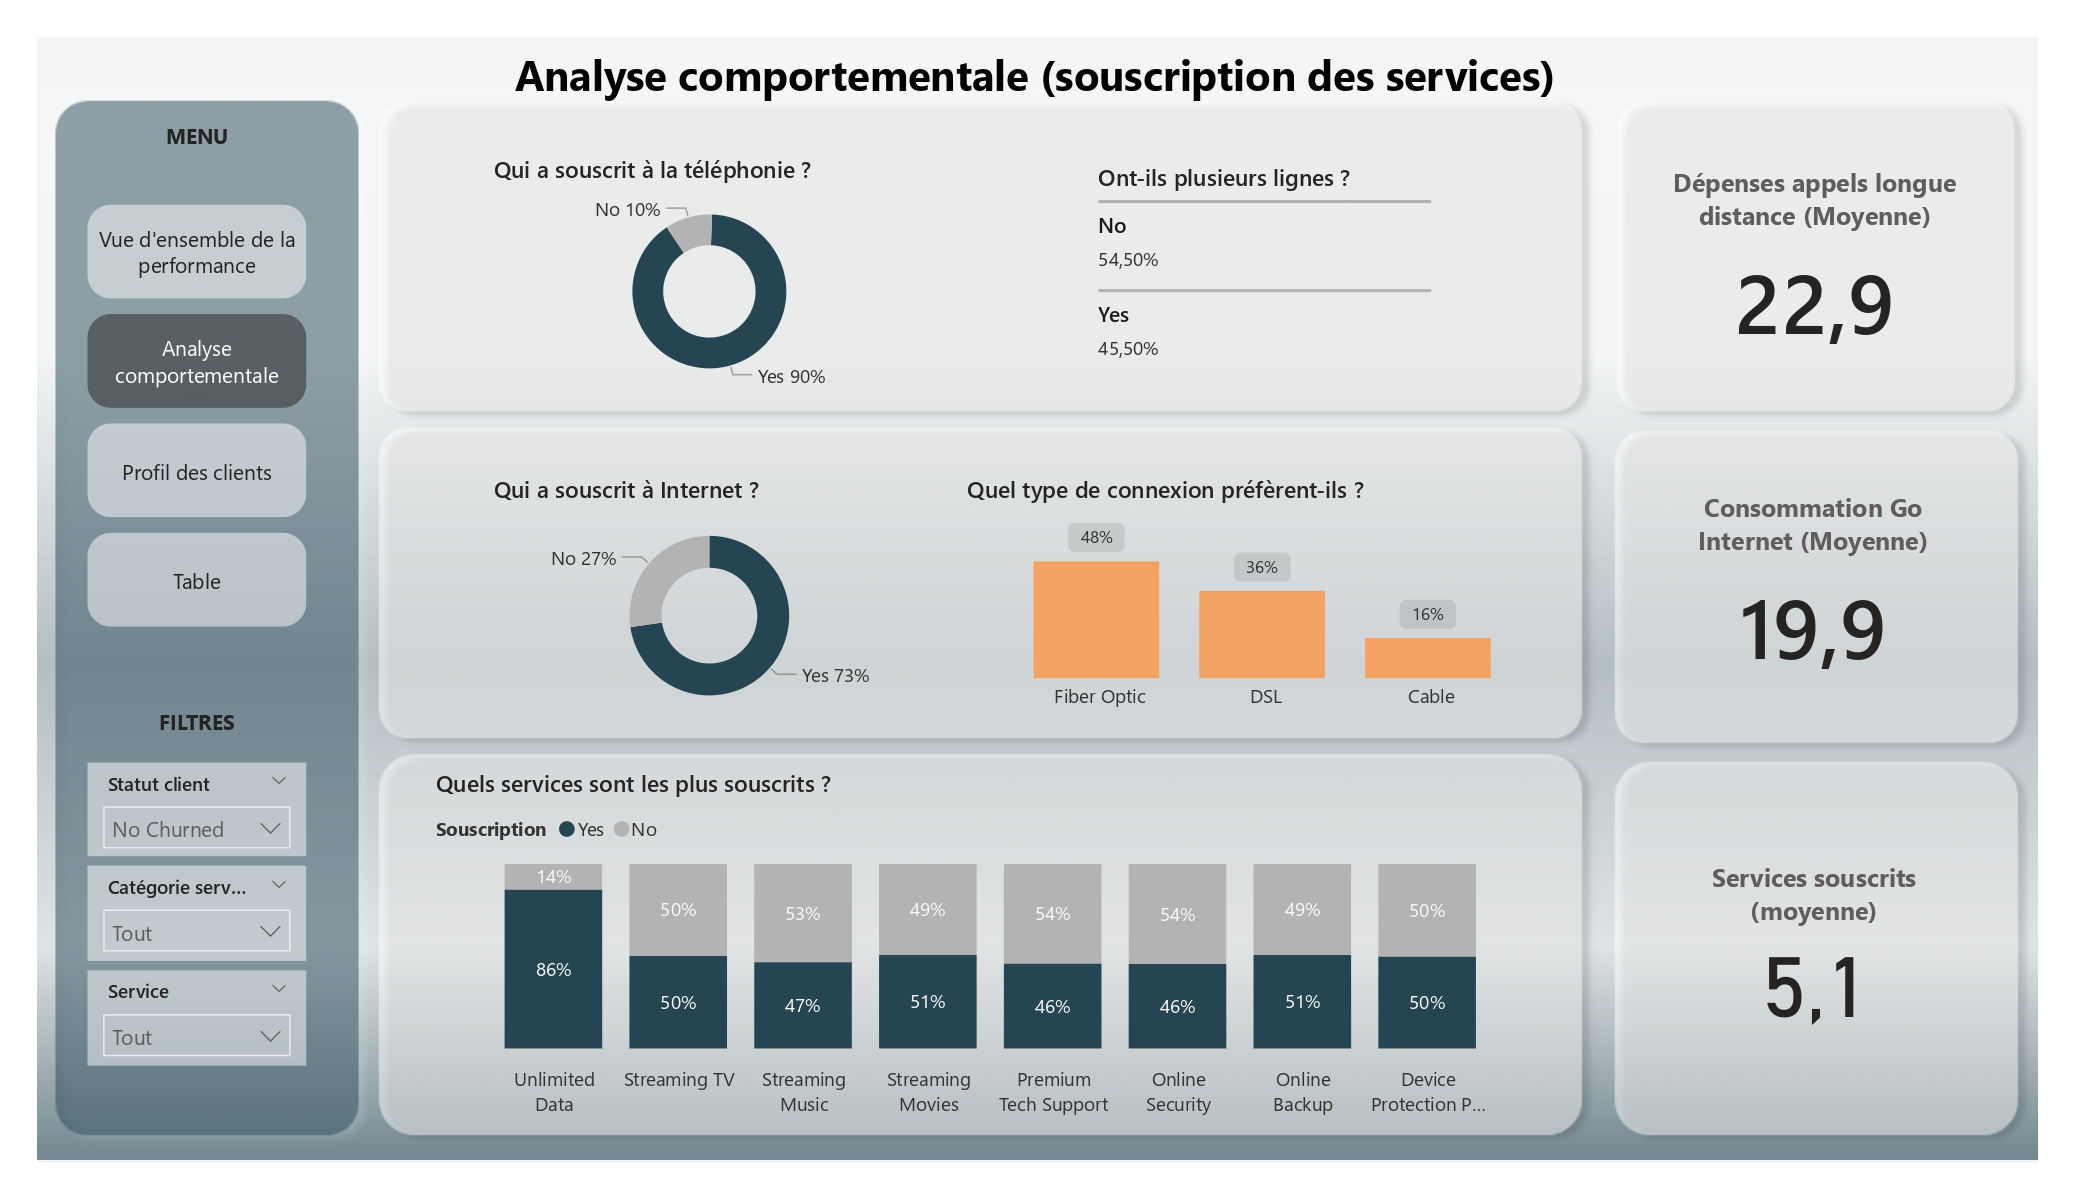

This screenshot's page, from the dashboard's own definition file:
{"tool":"powerbi","page":{"name":"Analyse comportementale","canvas":[1280,720],"ordinal":2},"visuals":[{"type":"donutChart","title":"Qui a souscrit à la téléphonie ?","fields":{"Y":["CountNonNull(CustomerService.Subscribed)"],"Category":["CustomerService.Subscribed"]},"box":[287.2,73.6,286.2,157.2],"z":1000},{"type":"cardVisual","fields":{"Data":["Avg(UsageCharges.Avg Monthly Long Distance Charges)"]},"box":[1022.1,65,231.1,149.8],"z":2000},{"type":"multiRowCard","title":"Ont-ils plusieurs lignes ?","fields":{"Values":["CustomerService.Subscribed","CountNonNull(CustomerService.Subscribed)"]},"box":[674.3,73.6,222.7,157.2],"z":3000},{"type":"donutChart","title":"Qui a souscrit à Internet ?","fields":{"Category":["CustomerService.Subscribed"],"Y":["CountNonNull(CustomerService.Subscribed)"]},"box":[287.2,279.2,286.2,162.3],"z":4000},{"type":"cardVisual","fields":{"Data":["Avg(UsageCharges.Avg Monthly GB Download)"]},"box":[1021,273,231.1,151],"z":5000},{"type":"hundredPercentStackedColumnChart","title":"Quels services sont les plus souscrits ?","fields":{"Category":["DimService.Service Name"],"Series":["CustomerService.Subscribed"],"Y":["CountNonNull(CustomerService.Customer ID)"]},"box":[250,466.6,709.5,231.8],"z":6000},{"type":"clusteredColumnChart","title":"Quel type de connexion préfèrent-ils ?","fields":{"Category":["CustomerService.Internet Type"],"Y":["Count(CustomerService.Customer ID)"]},"box":[589.6,279.2,392.1,161.3],"z":7000},{"type":"slicer","fields":{"Values":["DimService.Category"]},"box":[32.3,530.1,140.1,60.5],"z":8000},{"type":"cardVisual","fields":{"Data":["_Mesure Table.MoyenneServiceClient"]},"box":[1022.1,507.6,230,149.8],"z":9000},{"type":"slicer","fields":{"Values":["DimService.Service Name"]},"box":[32.3,596.7,140.1,61.5],"z":10000},{"type":"textbox","box":[7.1,0,1262.9,49.4],"z":11000},{"type":"pageNavigator","box":[32.3,106.8,140.1,273.1],"z":12000},{"type":"slicer","fields":{"Values":["DimCustomer.Customer Status"]},"box":[32.3,463.6,140.1,60.5],"z":13000},{"type":"textbox","box":[53.4,49.4,97.8,43.3],"z":14000},{"type":"textbox","box":[53.4,424.3,97.8,31.2],"z":15000}]}

Visuals, with their boxes on the page's 1280x720 design canvas (x1, y1, x2, y2). These are canvas units, not pixel positions in the 2075x1200 screenshot, which may show the page scaled, cropped or inside an application window:
"Qui a souscrit à la téléphonie ?" donutChart: <bbox>287, 74, 573, 231</bbox>
cardVisual - Avg(UsageCharges.Avg Monthly Long Distance Charges): <bbox>1022, 65, 1253, 215</bbox>
"Ont-ils plusieurs lignes ?" multiRowCard: <bbox>674, 74, 897, 231</bbox>
"Qui a souscrit à Internet ?" donutChart: <bbox>287, 279, 573, 442</bbox>
cardVisual - Avg(UsageCharges.Avg Monthly GB Download): <bbox>1021, 273, 1252, 424</bbox>
"Quels services sont les plus souscrits ?" hundredPercentStackedColumnChart: <bbox>250, 467, 960, 698</bbox>
"Quel type de connexion préfèrent-ils ?" clusteredColumnChart: <bbox>590, 279, 982, 440</bbox>
slicer - DimService.Category: <bbox>32, 530, 172, 591</bbox>
cardVisual - _Mesure Table.MoyenneServiceClient: <bbox>1022, 508, 1252, 657</bbox>
slicer - DimService.Service Name: <bbox>32, 597, 172, 658</bbox>
textbox: <bbox>7, 0, 1270, 49</bbox>
pageNavigator: <bbox>32, 107, 172, 380</bbox>
slicer - DimCustomer.Customer Status: <bbox>32, 464, 172, 524</bbox>
textbox: <bbox>53, 49, 151, 93</bbox>
textbox: <bbox>53, 424, 151, 456</bbox>
